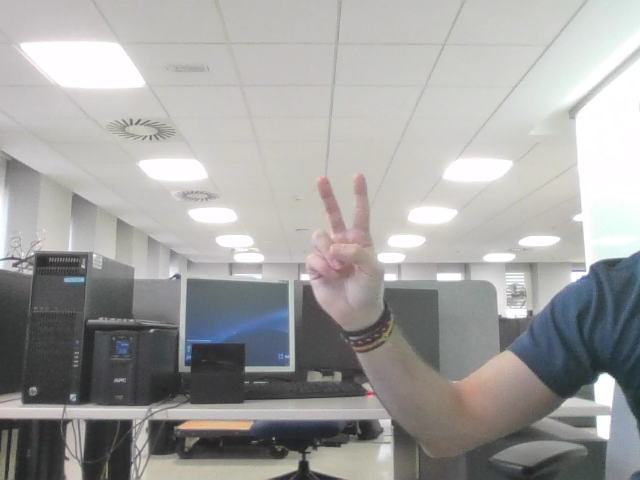2Dedos: (315, 184, 369, 289)
